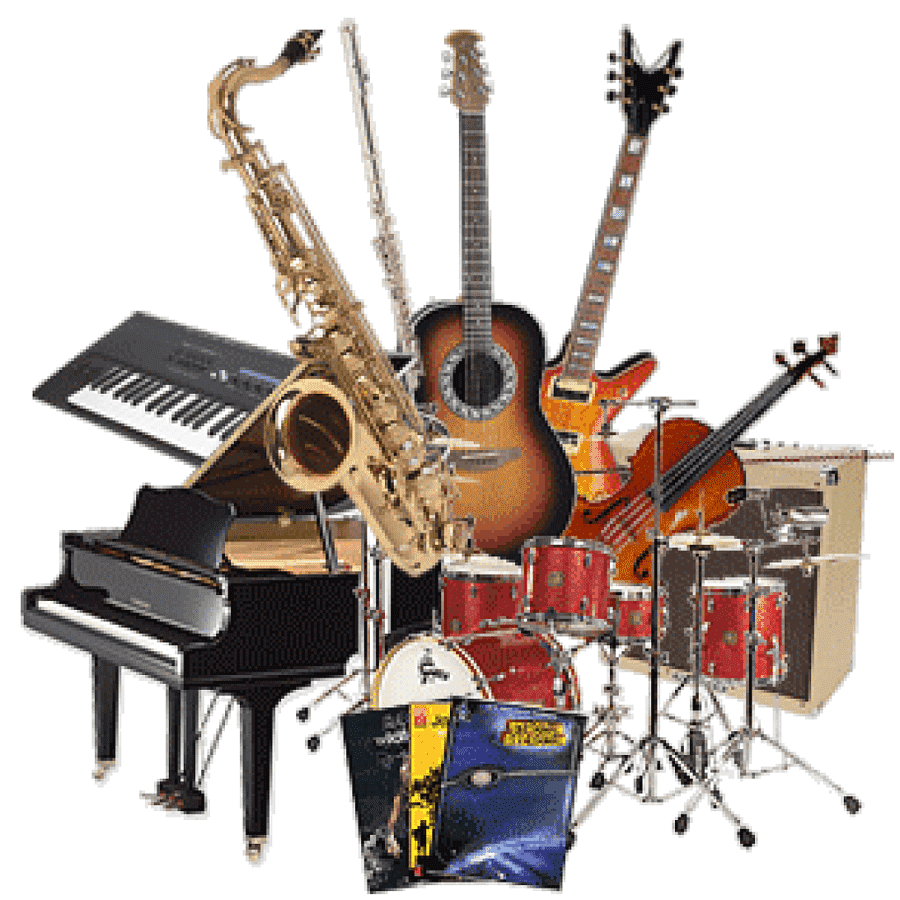Piano: (122, 32, 542, 664), (1, 488, 541, 897), (1, 332, 540, 533)
Violin: (553, 277, 860, 662)
